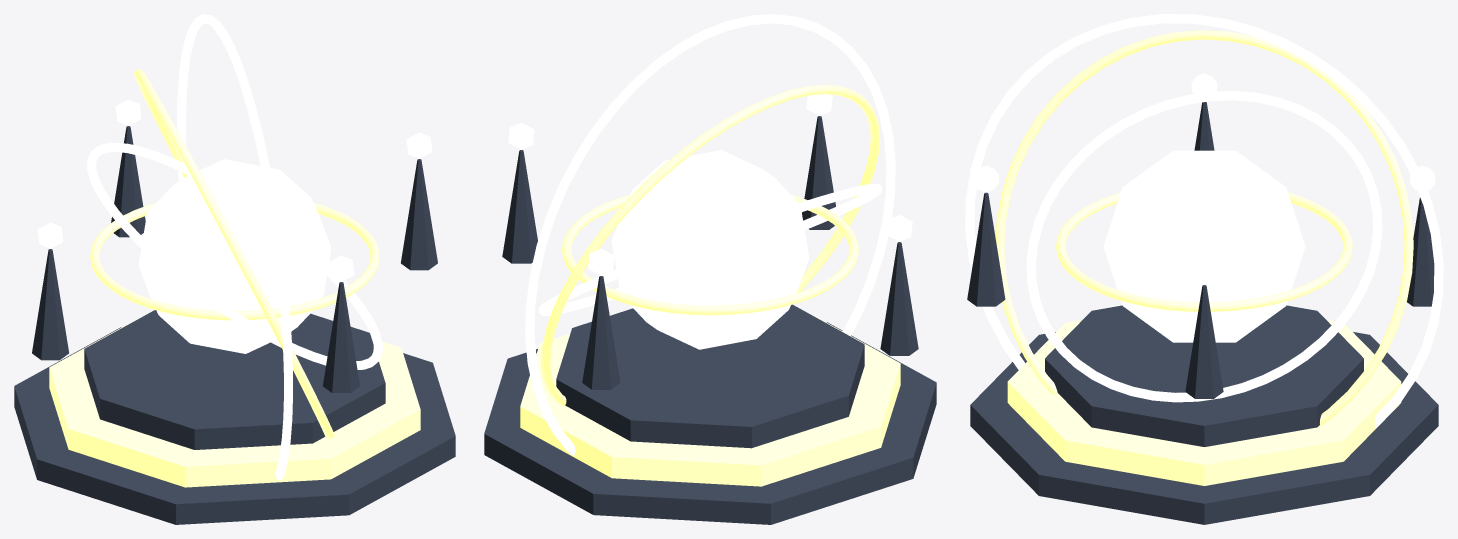
Rendered from gpu-blender-v12.glb.
The picture shows the model from 3 angles, left to right: view 1: azimuth 30°, elevation 25°; view 2: azimuth 150°, elevation 25°; view 3: azimuth 270°, elevation 25°; orthographic projection. The views are drawn at different scales.
Parts seen in each view (by area): view 1: Cylinder.002, SovereignCore_nealsvision, Cylinder, Cylinder.001, Torus.003, Torus.001, Torus.002, Torus, Cone, Cone.002, Cone.003, Cone.001 (+4 smaller); view 2: Cylinder.002, SovereignCore_nealsvision, Cylinder, Cylinder.001, Torus.003, Torus.002, Torus, Torus.001, Cone.001, Cone.002, Cone, Cone.003 (+3 smaller); view 3: SovereignCore_nealsvision, Cylinder.002, Cylinder, Cylinder.001, Torus.001, Torus.003, Torus.002, Torus, Cone.003, Cone, Cone.001, Cone.002 (+2 smaller).
Boxes of the visible parts, x1,y1,x2,y2 form: Cylinder.002: [84, 310, 385, 449]; SovereignCore_nealsvision: [138, 159, 331, 353]; Cylinder: [14, 327, 455, 524]; Cylinder.001: [49, 318, 420, 487]; Torus.003: [177, 14, 292, 480]; Torus.001: [87, 142, 382, 369]; Torus.002: [134, 69, 334, 438]; Torus: [90, 203, 379, 320]; Cone: [401, 159, 437, 270]; Cone.002: [32, 249, 68, 360]; Cone.003: [323, 282, 359, 392]; Cone.001: [111, 126, 145, 237]; Cylinder.002: [556, 304, 864, 448]; SovereignCore_nealsvision: [611, 150, 809, 349]; Cylinder: [484, 322, 936, 524]; Cylinder.001: [520, 313, 900, 486]; Torus.003: [525, 14, 895, 455]; Torus.002: [541, 84, 879, 406]; Torus: [562, 195, 858, 315]; Torus.001: [539, 183, 881, 315]; Cone.001: [582, 276, 620, 389]; Cone.002: [880, 242, 918, 355]; Cone: [502, 150, 537, 263]; Cone.003: [802, 116, 835, 229]; SovereignCore_nealsvision: [1103, 150, 1305, 342]; Cylinder.002: [1045, 305, 1363, 446]; Cylinder: [970, 332, 1438, 524]; Cylinder.001: [1007, 320, 1401, 485]; Torus.001: [1026, 91, 1382, 402]; Torus.003: [965, 14, 1443, 427]; Torus.002: [995, 30, 1413, 426]; Torus: [1056, 192, 1352, 311]; Cone.003: [967, 192, 1005, 306]; Cone: [1185, 285, 1223, 398]; Cone.001: [1407, 197, 1434, 306]; Cone.002: [1194, 102, 1214, 150].
Bounding box in the file's own units: 4.41 × 4.7 × 4.49.
